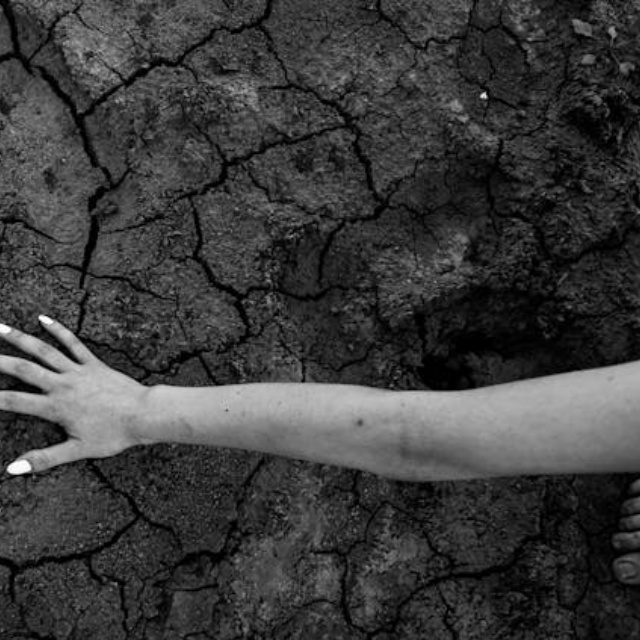细微裂纹: (343, 503, 595, 640)
